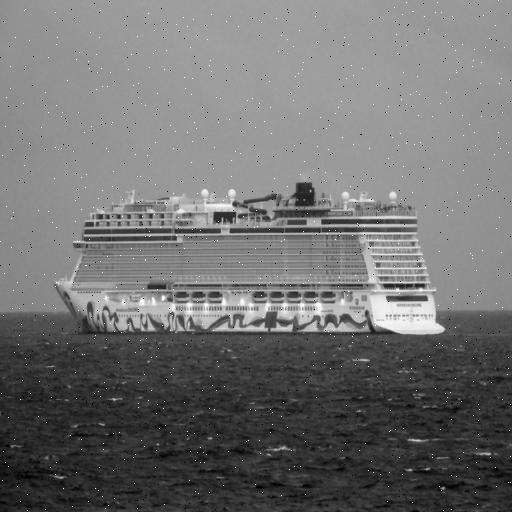cruises: (52, 177, 450, 344)
